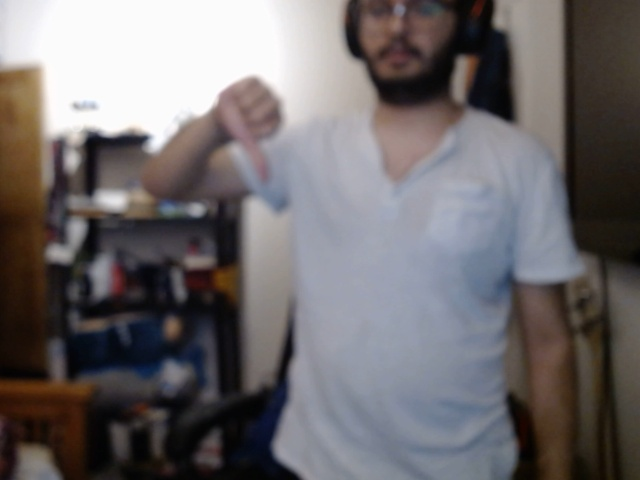Thumbs down: (211, 54, 302, 210)
